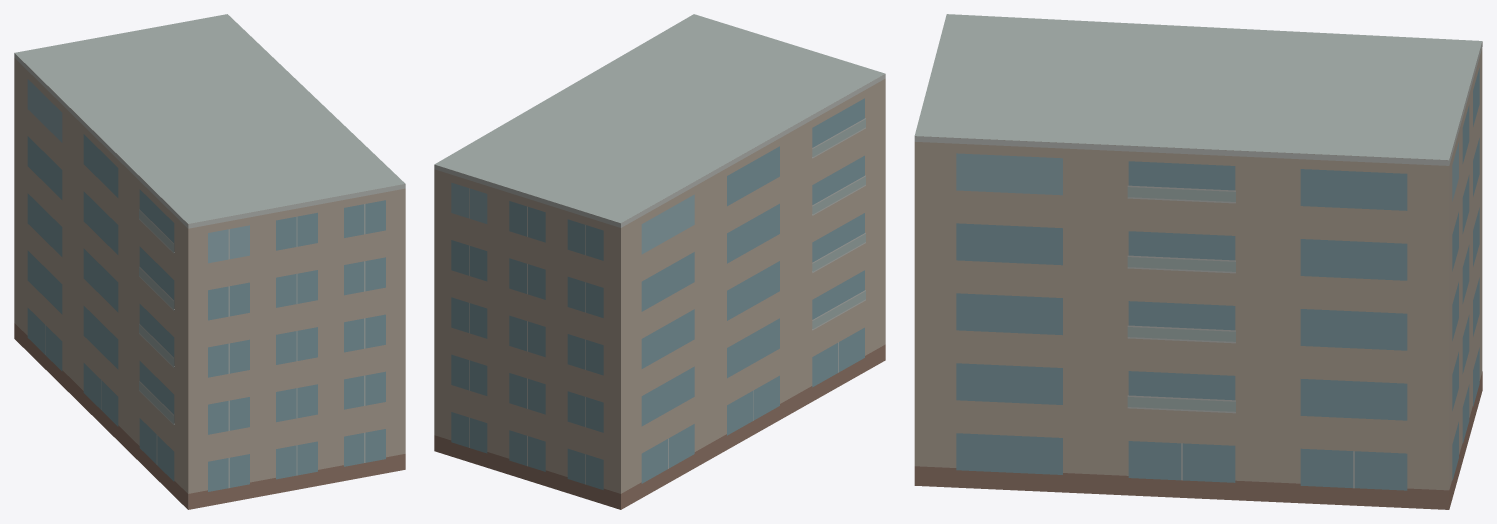
The model's file is survey-upis-32567191.glb.
3 renders of one model, left to right at view 1: azimuth 30°, elevation 25°; view 2: azimuth 150°, elevation 25°; view 3: azimuth 270°, elevation 25°, orthographic. The views are drawn at different scales.
Parts seen in each view (by area): view 1: survey-upis-32567191.tmp; view 2: survey-upis-32567191.tmp; view 3: survey-upis-32567191.tmp.
Boxes of the visible parts, x1,y1,x2,y2 form: survey-upis-32567191.tmp: (14,14,405,509); survey-upis-32567191.tmp: (434,14,885,509); survey-upis-32567191.tmp: (914,14,1482,509).
Bounding box in the file's own units: 13.28 × 14.8 × 21.79.
